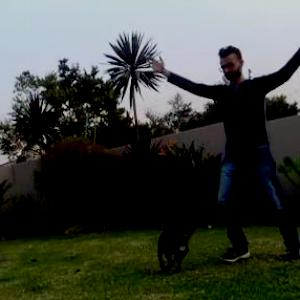takeoff: (189, 77, 299, 204)
